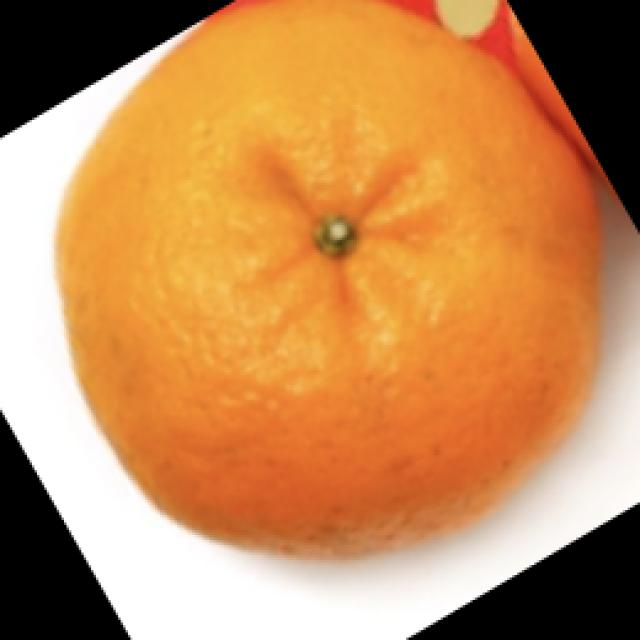fresh: (46, 2, 630, 574)
